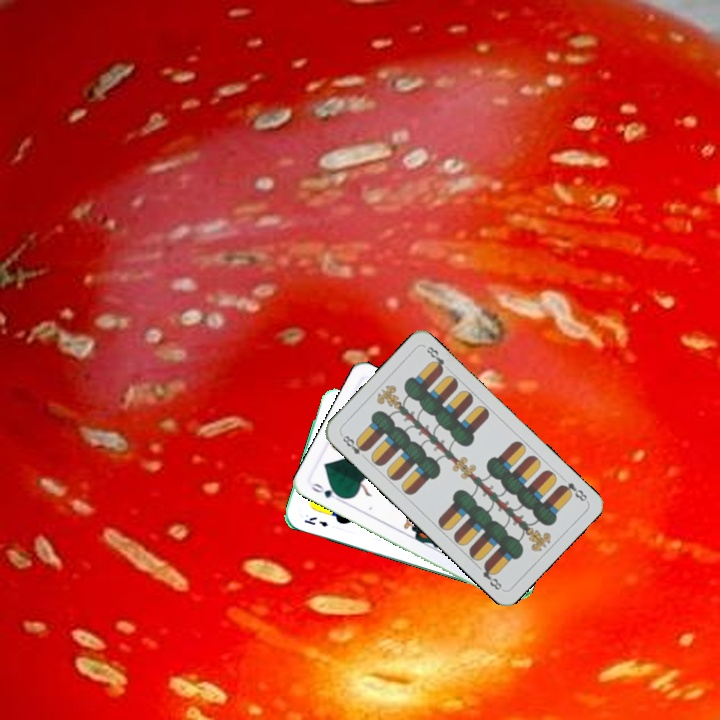E8: (337, 430, 370, 462), (555, 478, 590, 504)
EK: (301, 513, 331, 529)
GO: (307, 479, 346, 505)
